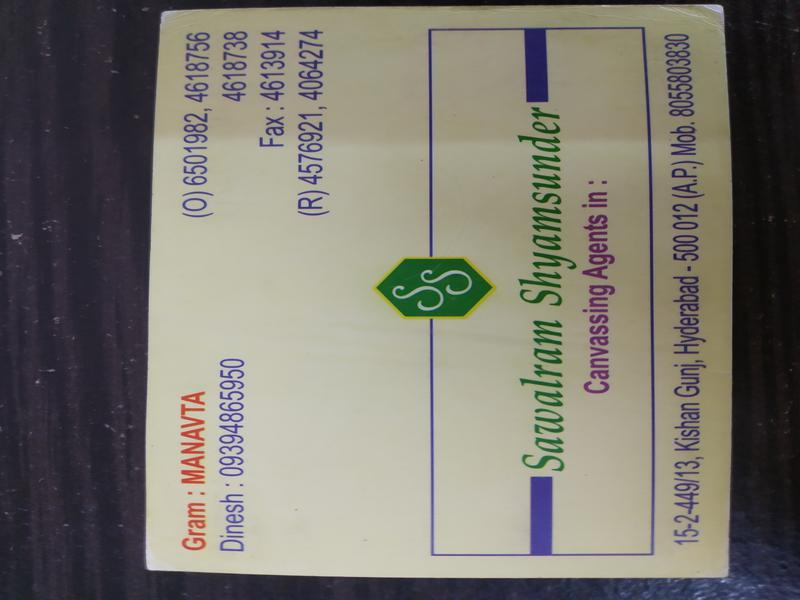card: (140, 4, 731, 576)
